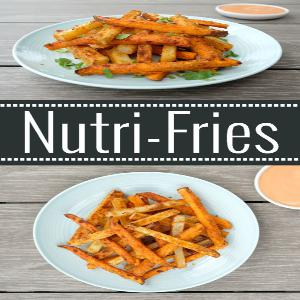fries_350cal: (41, 9, 230, 88), (59, 195, 231, 280)
